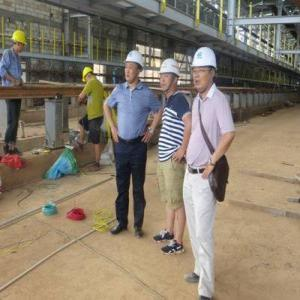white: (190, 46, 220, 93), (160, 57, 181, 93), (124, 49, 145, 82)
yellow: (12, 30, 28, 55), (82, 65, 96, 84)
